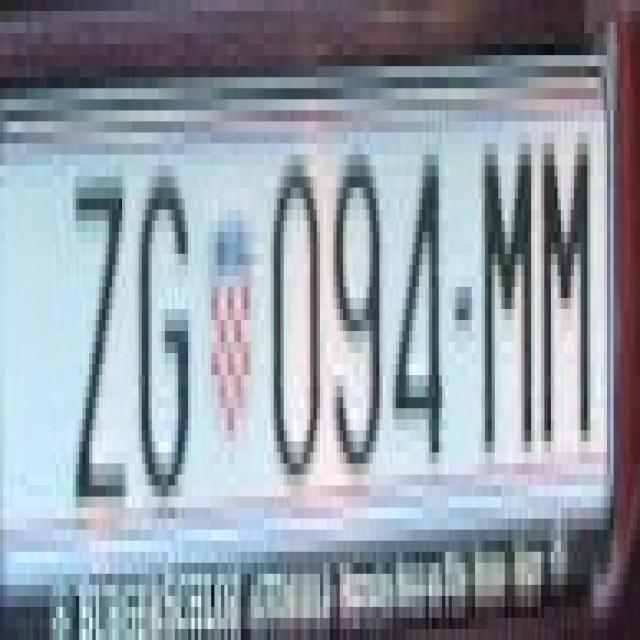0: (270, 154, 324, 486)
4: (392, 144, 452, 464)
9: (333, 154, 386, 474)
G: (138, 155, 198, 508)
M: (538, 121, 594, 464), (478, 144, 531, 464)
Z: (66, 166, 129, 474)
